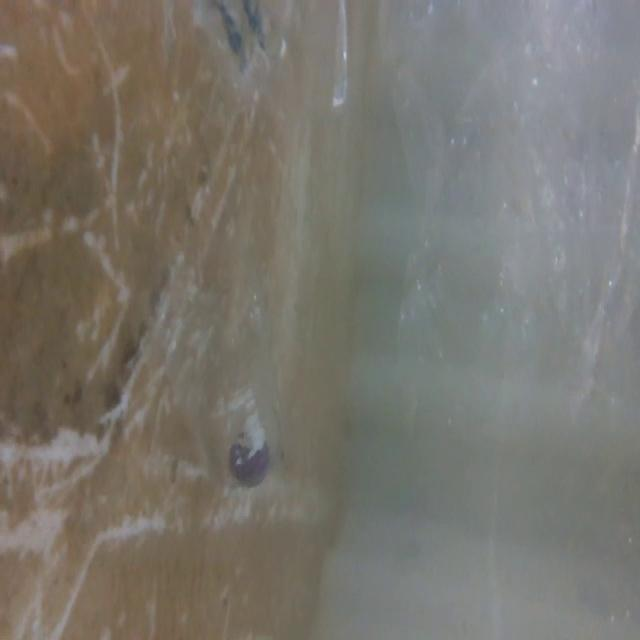plastic bags: (374, 0, 640, 428), (162, 0, 364, 141)
plastic bottle: (153, 267, 300, 501)
